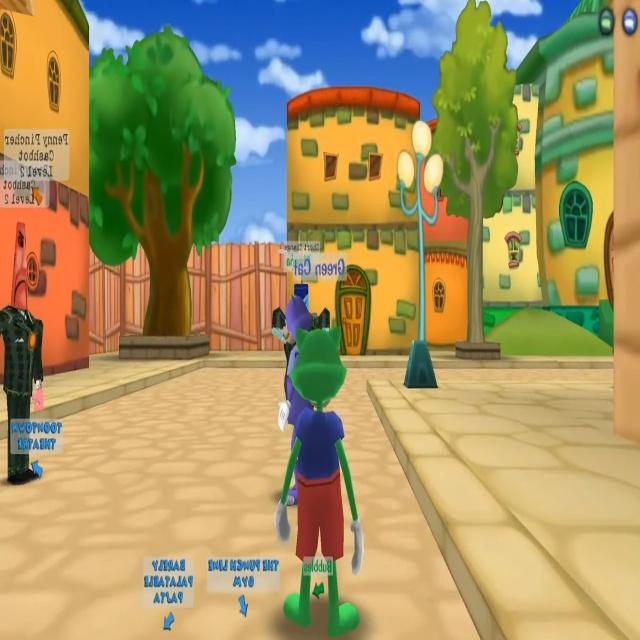pennypincher: (0, 223, 43, 483)
shortchange: (280, 277, 334, 387)
